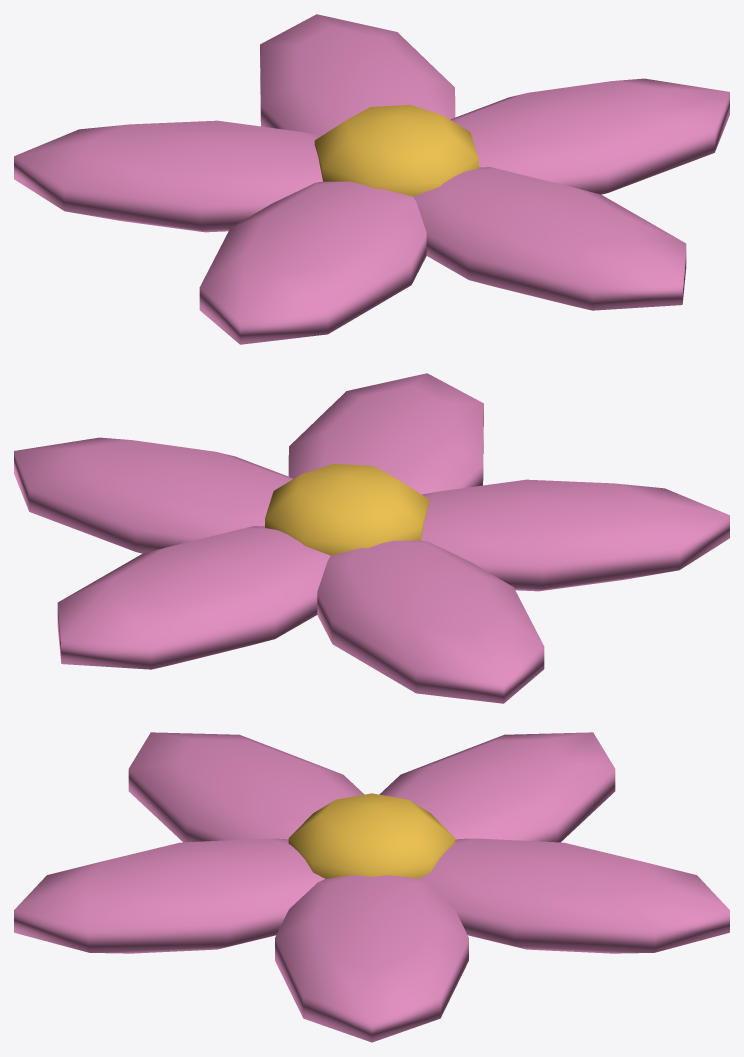
Rendered from flower-five.glb.
3 renders of one model, top to bottom at view 1: azimuth 30°, elevation 25°; view 2: azimuth 150°, elevation 25°; view 3: azimuth 270°, elevation 25°, orthographic. The views are drawn at different scales.
Visible parts, largest first — view 1: tint-surface, surface; view 2: tint-surface, surface; view 3: tint-surface, surface.
Boxes of the visible parts, x1,y1,x2,y2 form: tint-surface: (14, 14, 729, 344); surface: (314, 104, 478, 196); tint-surface: (14, 373, 729, 703); surface: (265, 463, 429, 555); tint-surface: (14, 732, 729, 1042); surface: (288, 793, 455, 878).
Bounding box in the file's own units: 0.934 × 0.155 × 0.9821.
